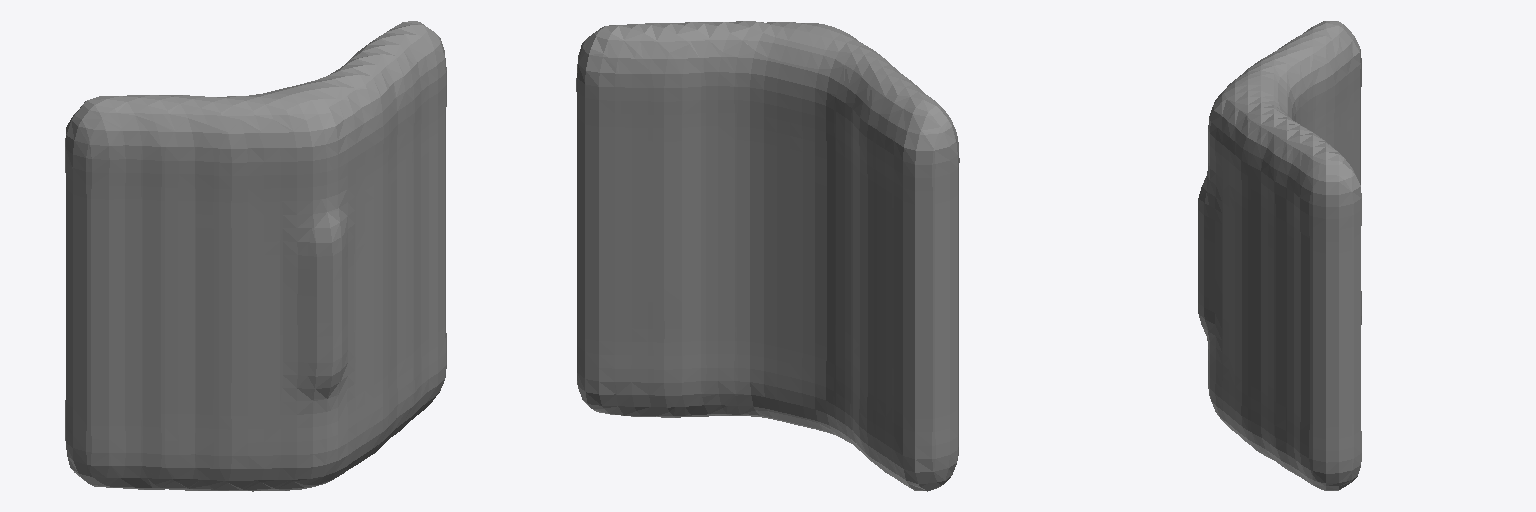
URDF robot description (cube.urdf):
<?xml version="0.0" ?> 
<robot name="cube.urdf"> 
<link name="legobrick"> 
<contact> 
<lateral_friction value="5.0"/> 
<rolling_friction value="0.0"/> 
<contact_cfm value="0.0"/> 
<contact_erp value="1.0"/> 
</contact> 
<inertial> 
<origin rpy="0 0 0" xyz="0.0 0.0 0.0"/> 
<mass value=".01"/> 
<inertia ixx="1" ixy="0" ixz="0" iyy="1" iyz="0" izz="1"/> 
</inertial> 
<visual> 
<origin rpy="1.570796 0 0" xyz="-0.026178049687949304 0.013577721755553966 -0.026200765509551815"/> 
<geometry> 
<mesh filename="U05_3.obj" scale="0.0005649900025503326 0.0005649900025503326 0.0005649900025503326"/> 
</geometry> 
<material name="yellow"> 
<color rgba="0.6 0.6 0.6 1"/> 
</material> 
</visual> 
<collision> 
<origin rpy="1.570796 0 0" xyz="-0.026178049687949304 0.013577721755553966 -0.026200765509551815"/> 
<geometry> 
<mesh filename="U05_3.obj" scale="0.0005649900025503326 0.0005649900025503326 0.0005649900025503326"/> 
</geometry> 
</collision> 
</link> 
</robot>

--- What the picture shows (computed from the rendered views, not written in the file) ---
Views: 3 orthographic renders of the robot side by side, from view 1: azimuth 30°, elevation 25°; view 2: azimuth 150°, elevation 25°; view 3: azimuth 270°, elevation 25°.
Model cube.urdf with 1 links and 0 joints (none), rooted at legobrick, posed every joint at zero.
Links seen in each view (by area): view 1: legobrick; view 2: legobrick; view 3: legobrick.
Link boxes in pixels (left/top/right/bottom): legobrick: left=65, top=21, right=446, bottom=491; legobrick: left=576, top=21, right=959, bottom=491; legobrick: left=1198, top=21, right=1361, bottom=490.
Bounding box of the posed robot: 0.056 × 0.0245 × 0.0565 m (x, y, z).
1 mesh visuals loaded from 1 distinct referenced files (1 OBJ).
